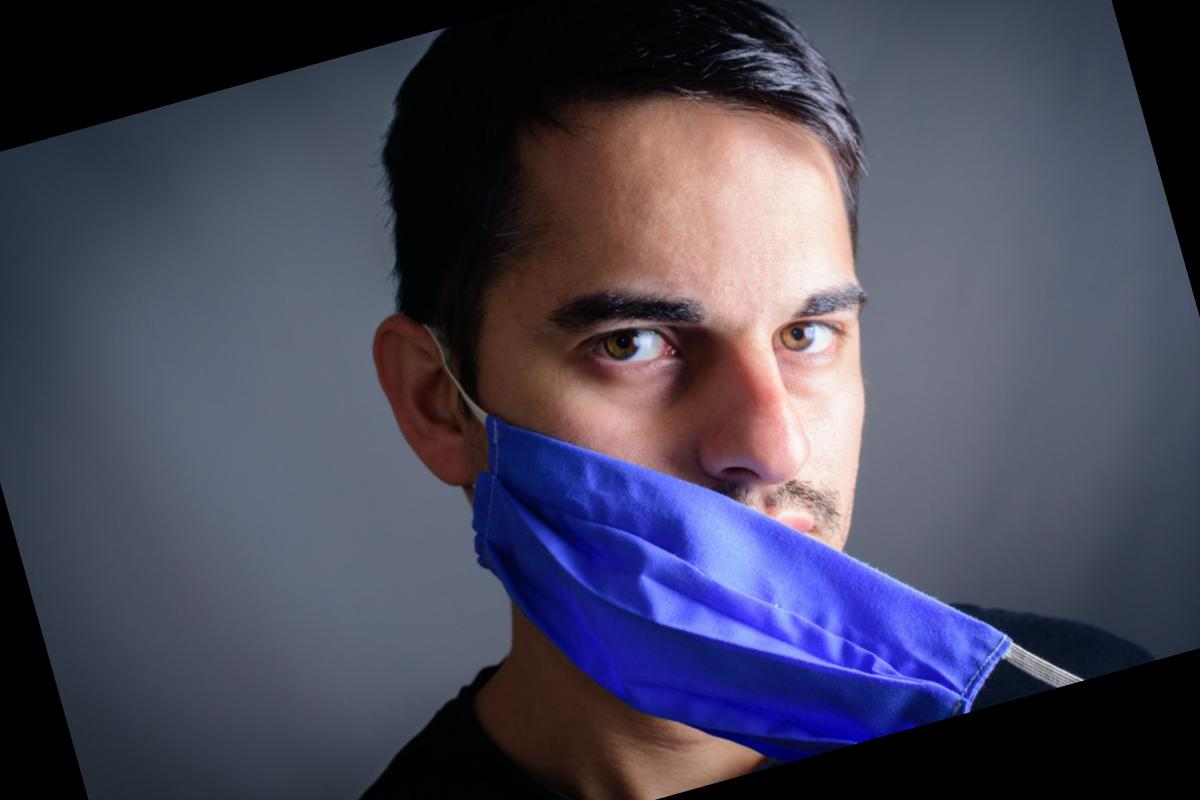mask_weared_incorrect: (430, 193, 938, 614)
